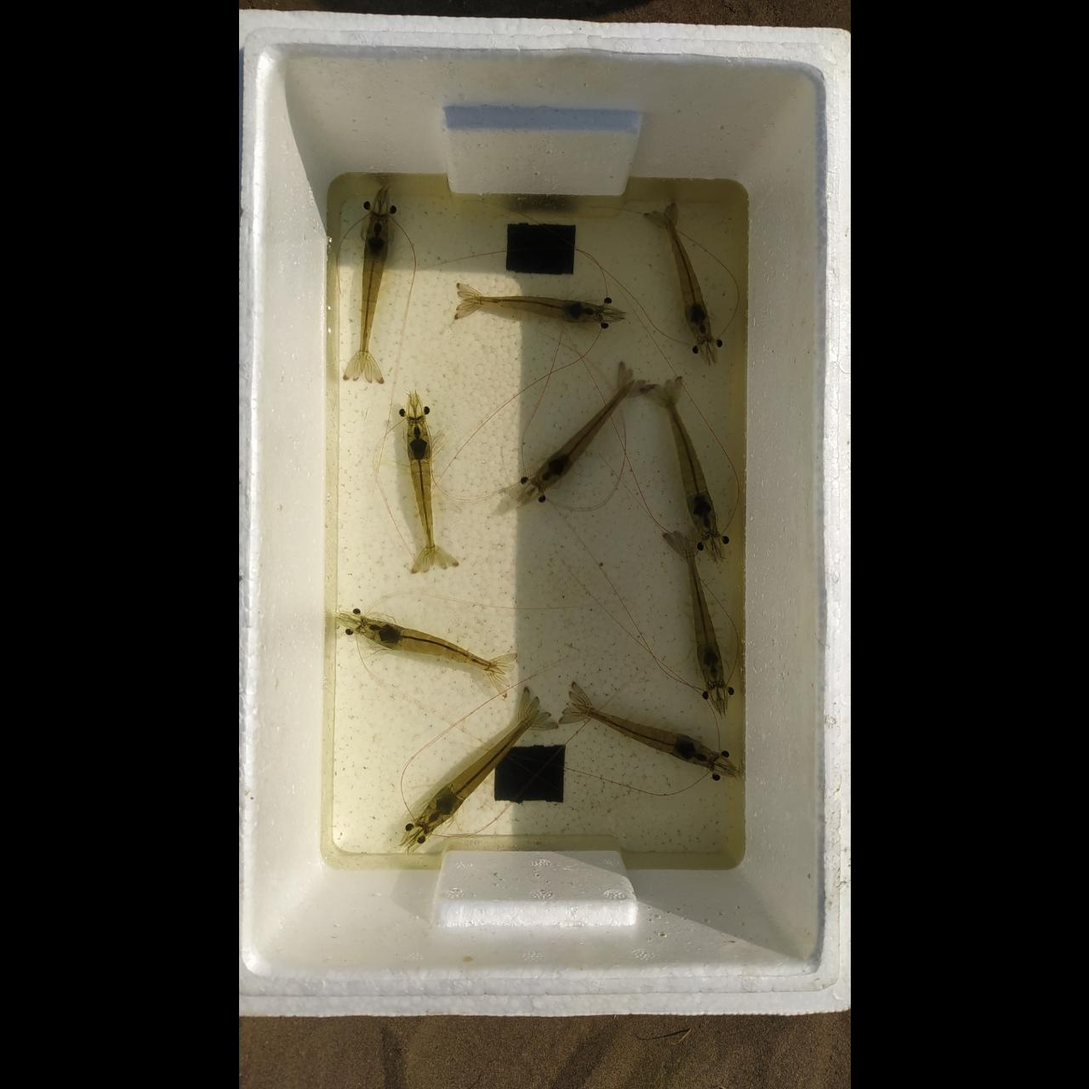box: (493, 745, 562, 801), (505, 223, 573, 274)
top_shrimp: (419, 715, 533, 827), (533, 381, 630, 487), (576, 703, 712, 764), (663, 393, 712, 534), (358, 619, 487, 667), (661, 211, 707, 339), (681, 548, 719, 684), (360, 214, 389, 368), (404, 419, 431, 563), (464, 296, 598, 325)
